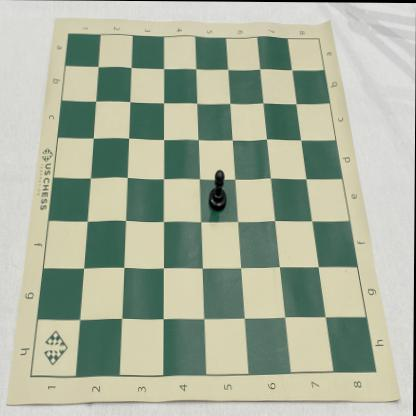black-pawn: (209, 170, 228, 212)
